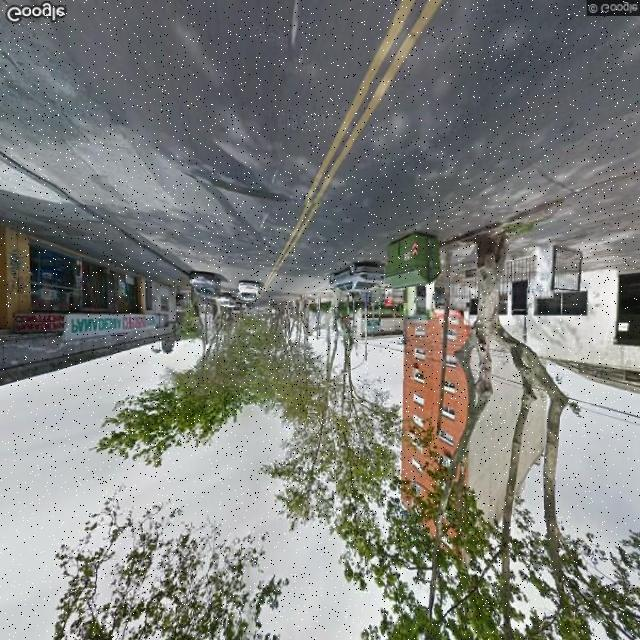garbage container: (381, 227, 449, 297)
